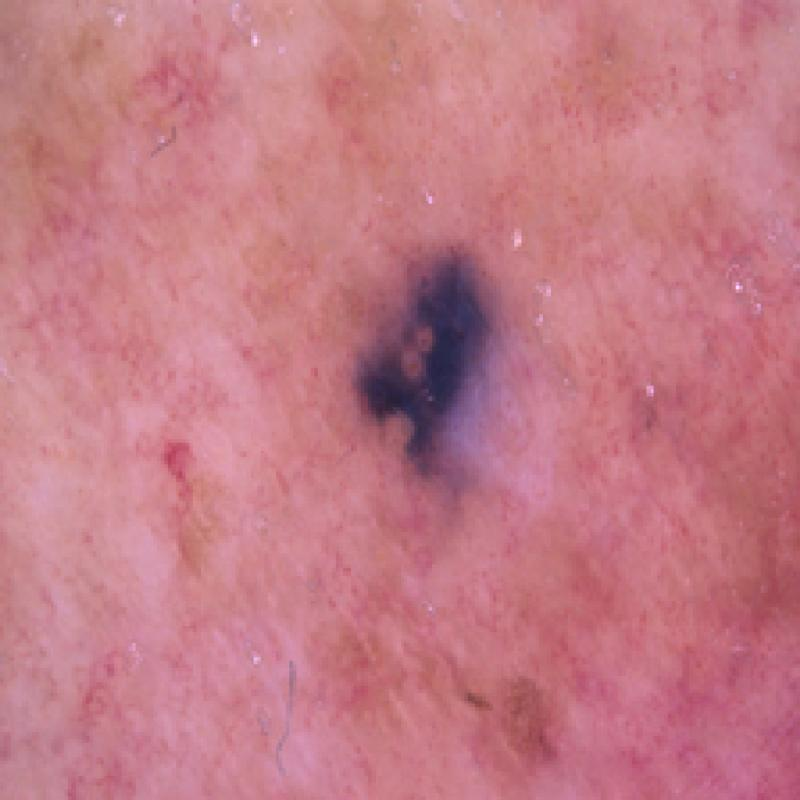benign: (265, 185, 628, 600)
